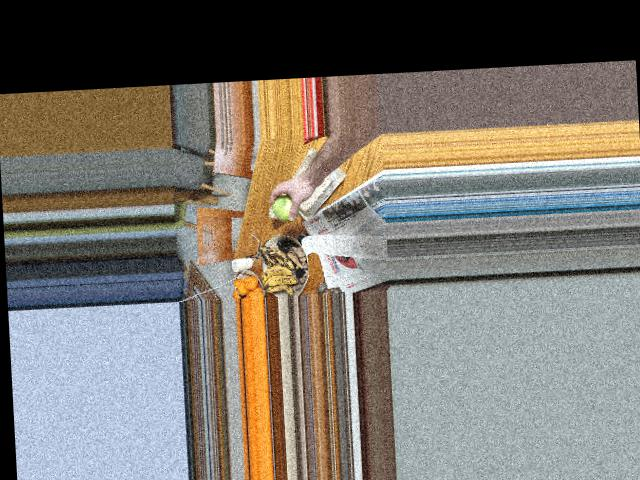apple: (270, 193, 300, 222)
